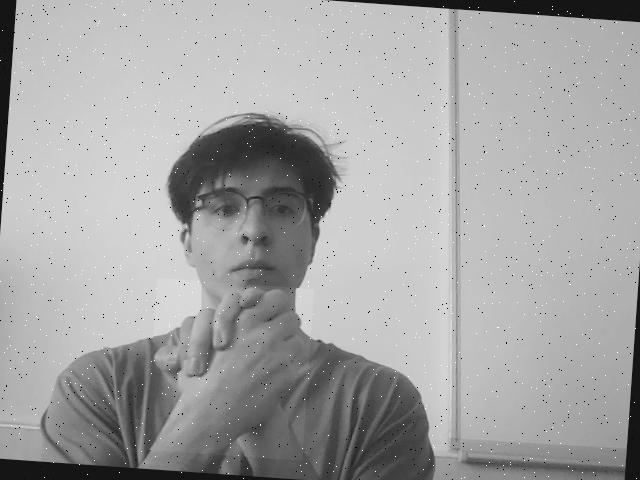friend: (152, 287, 309, 457)
